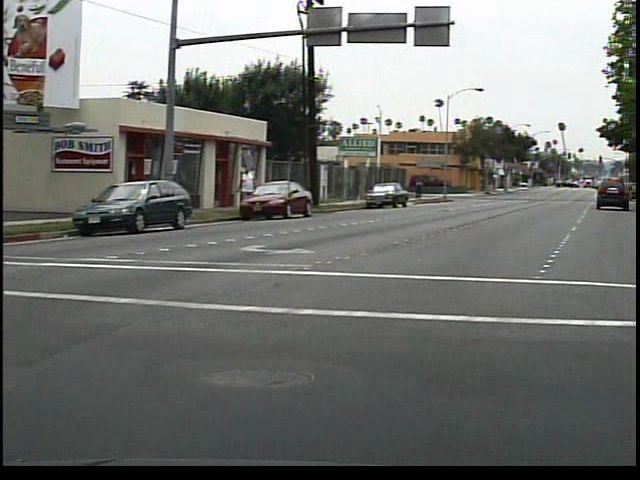person: (240, 159, 266, 216), (418, 177, 432, 203)
